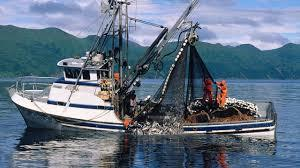fishing boat: (5, 0, 279, 139)
